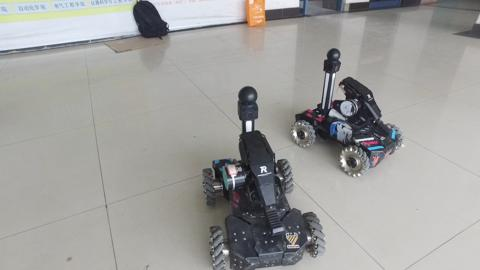chariot: (194, 85, 331, 270), (292, 42, 407, 179)
